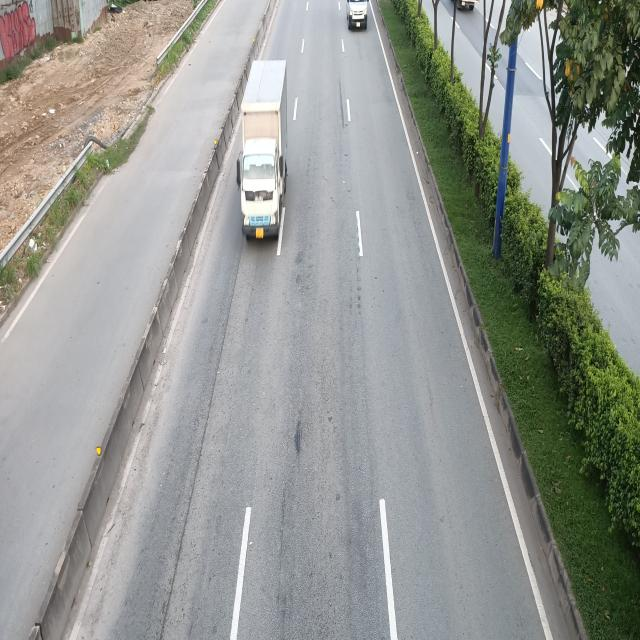truck: (238, 59, 292, 242)
van: (346, 0, 368, 28)
